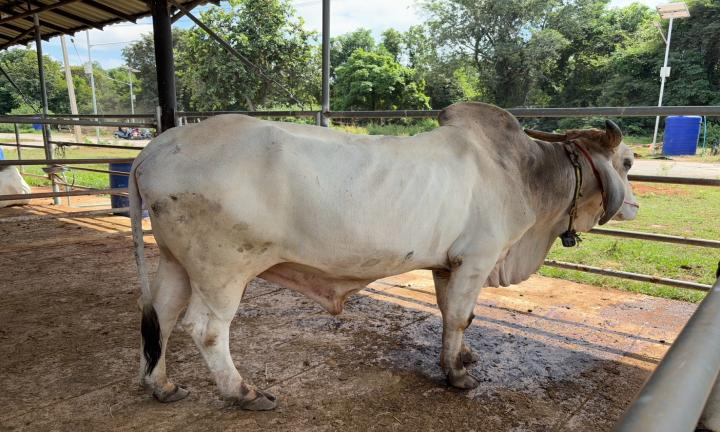Brahman: (129, 102, 637, 409)
